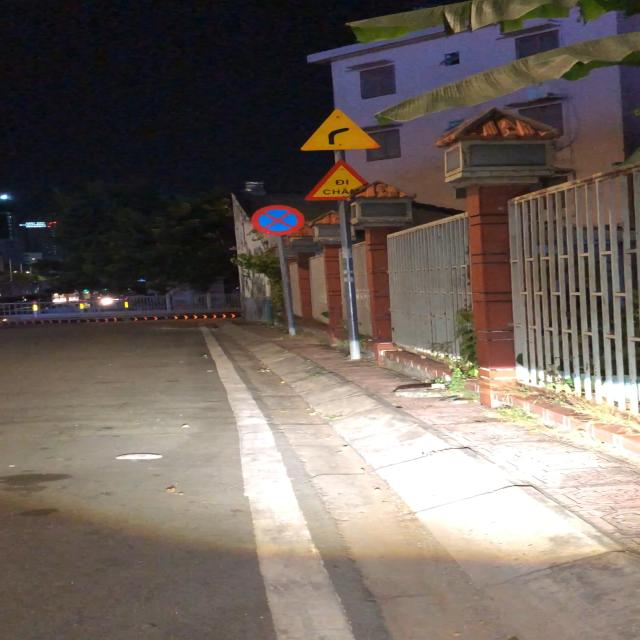Bien bao cam dung xe va do xe: (250, 203, 307, 236)
Bien bao cho ngoat nguy hiem: (298, 108, 384, 150)
Bien bao di cham: (304, 160, 378, 202)
